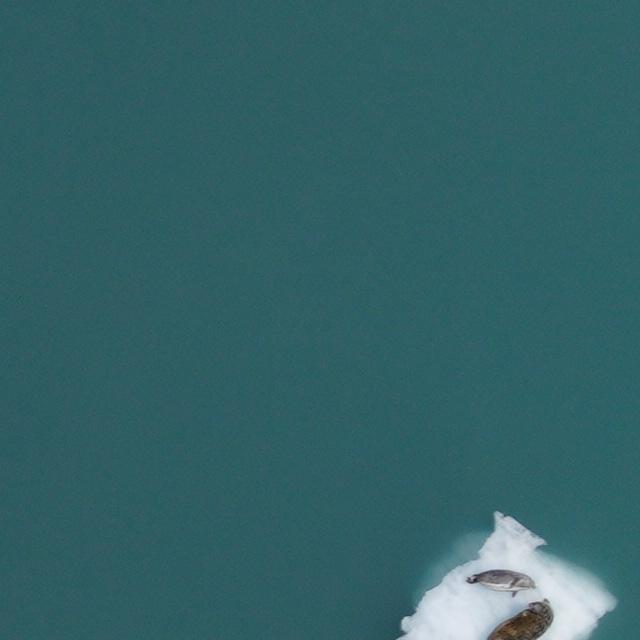seal: (487, 597, 553, 639), (467, 568, 535, 596)
